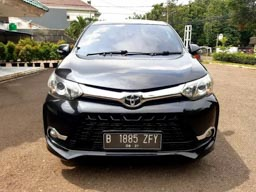plat: (102, 132, 160, 143)
